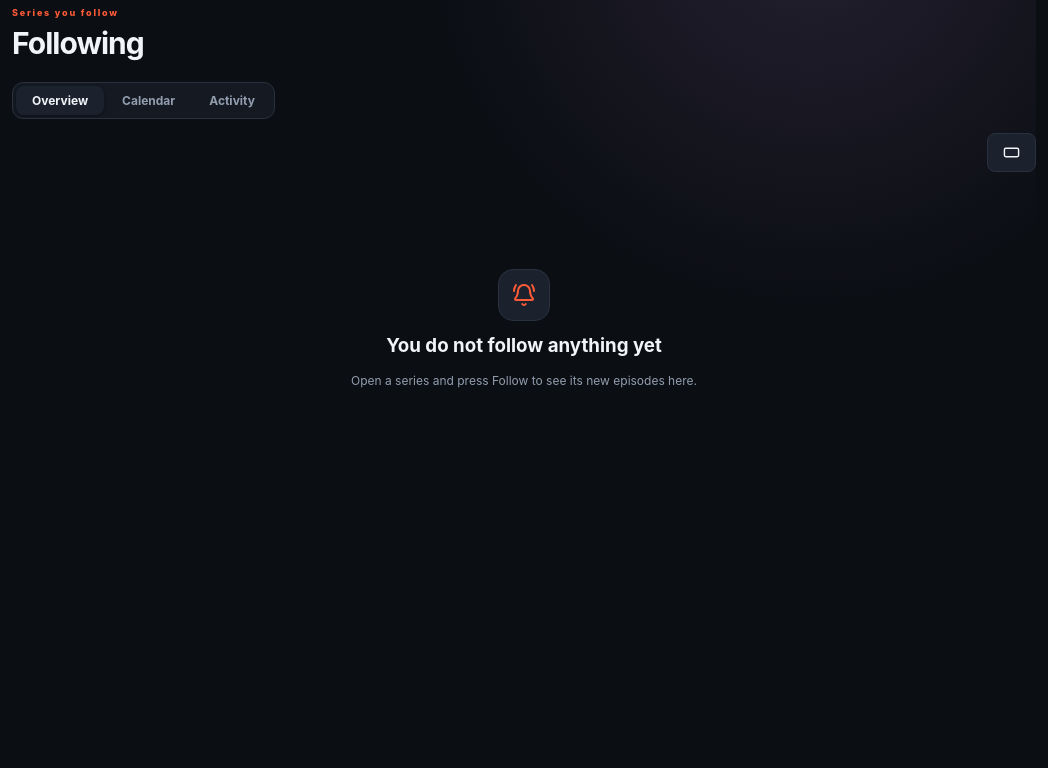
Test: FollowingPage › choosing another day lists that day's episodes
Click the tab "Calendar".
click(149, 100)  # box [106,86,191,115]
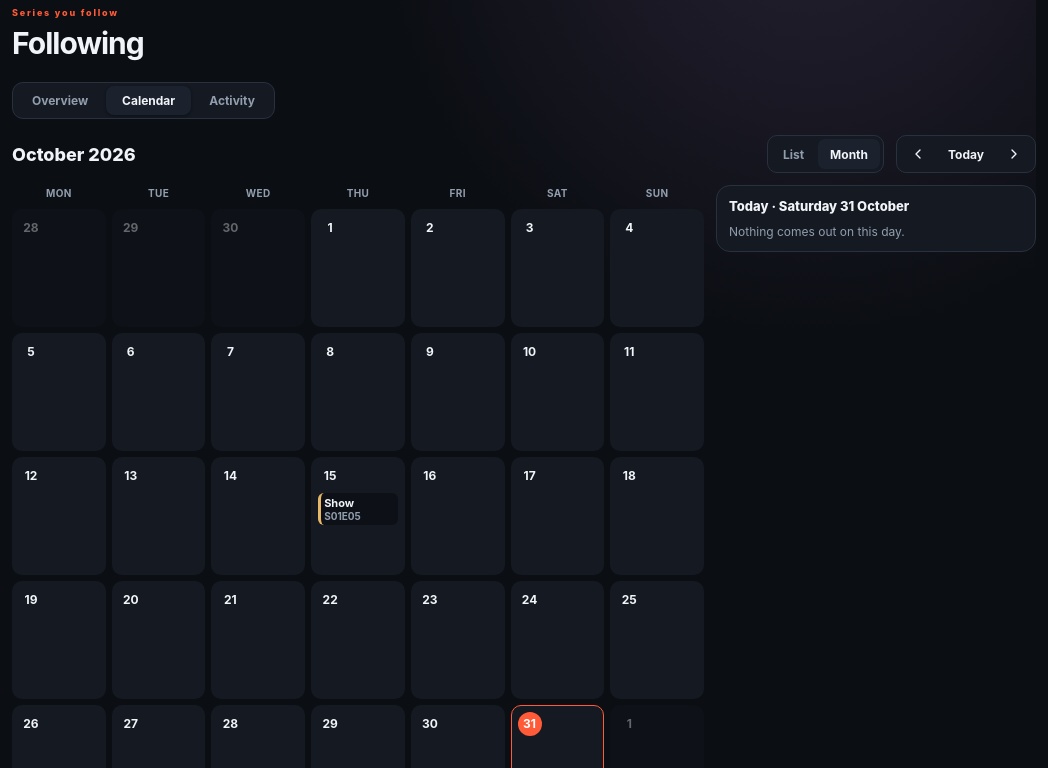
Click the button with class "following-day-hit" showing "15".
click(330, 476)  # box [318,464,342,488]
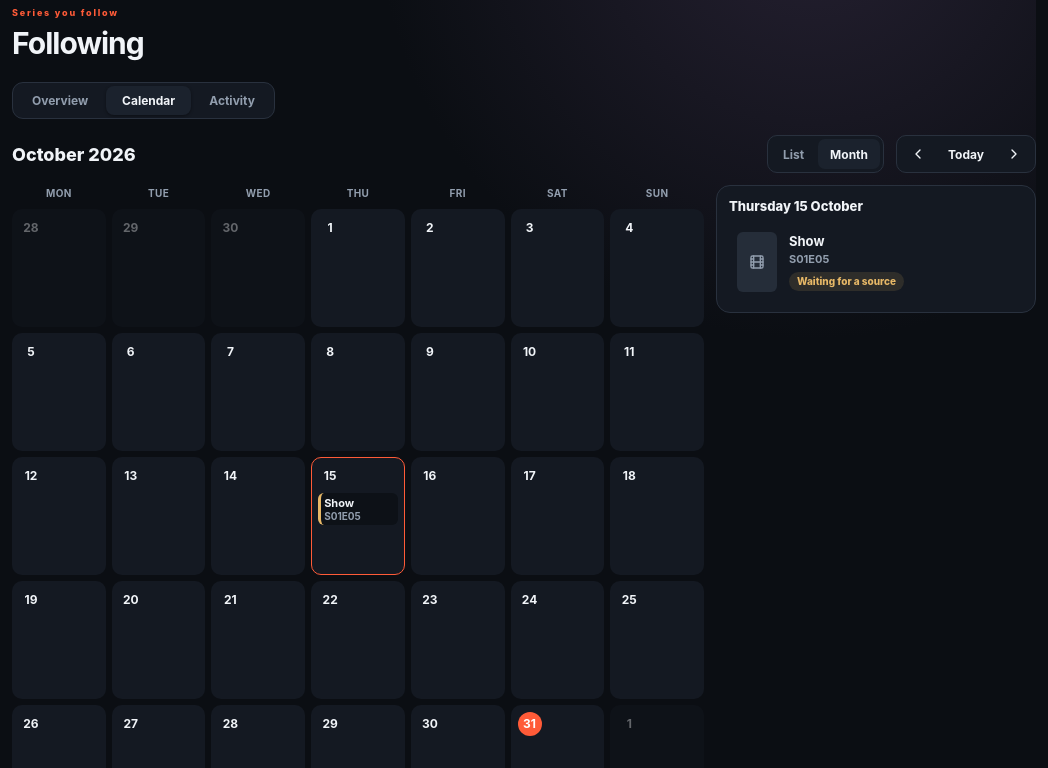
Expected: the text with class "state-pill" reads "Waiting for a source", [797,275,896,287]
